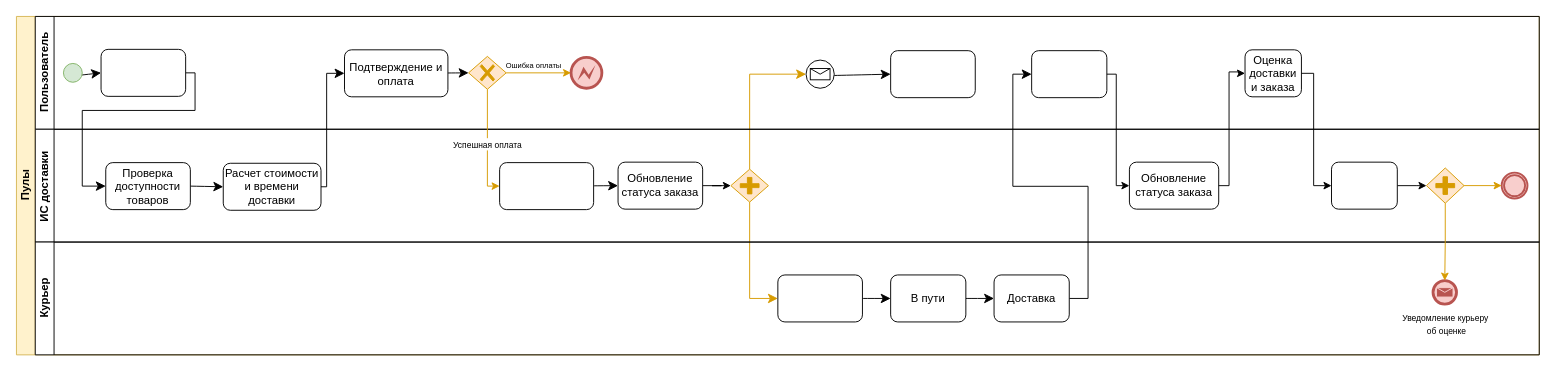
Some shapes in this 1556 by 371 pixel diagram are drawn without their labels. The centre of each missing label's shape, as x and y in pixels:
"Отправка заказа на сборку" belongs at (x=546, y=186).
"Отслеживание заказа" belongs at (x=932, y=74).
"Получение" belongs at (x=1069, y=74).
"Получение задания на доставку" belongs at (x=819, y=298).
"Уведомление об изменении статуса" belongs at (x=819, y=73).
"Фиксация оценки" belongs at (x=1364, y=185).
"Формирование заказа" belongs at (x=143, y=72).
